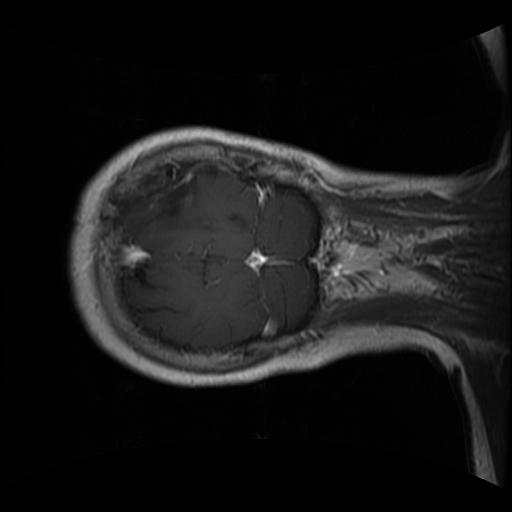glioma: (126, 166, 198, 226)
